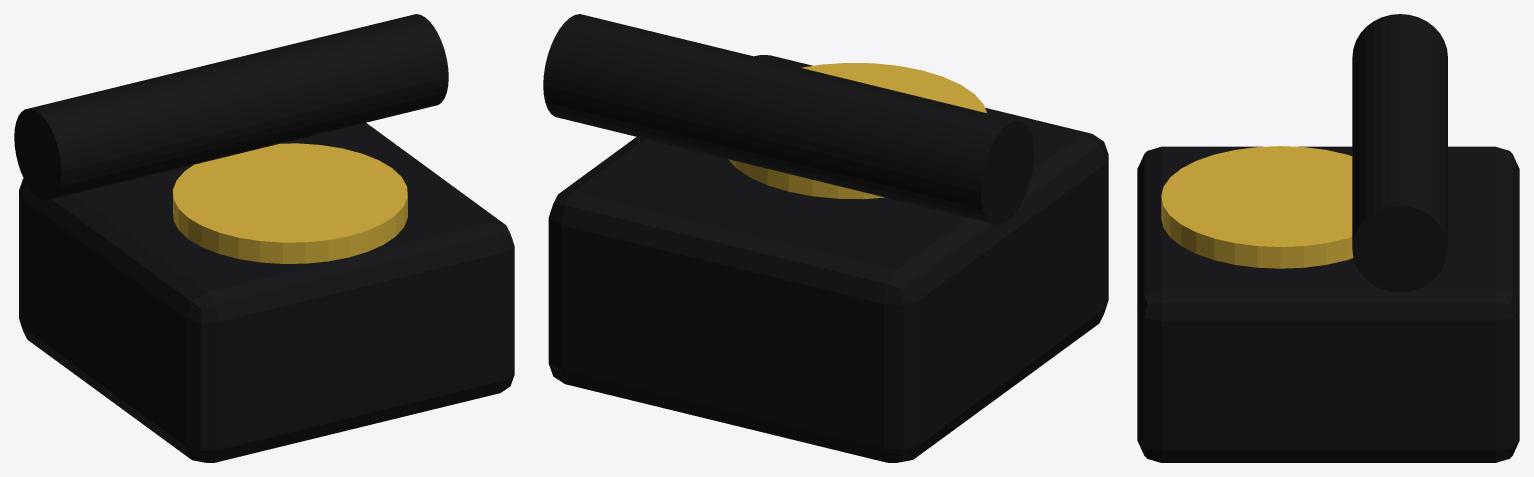
File: rotary_phone_84.glb
The picture shows the model from 3 angles, left to right: view 1: azimuth 30°, elevation 25°; view 2: azimuth 150°, elevation 25°; view 3: azimuth 270°, elevation 25°; orthographic projection. The views are drawn at different scales.
Visible parts, largest first — view 1: RotaryPhone_Base, RotaryPhone_Handset, RotaryPhone_Dial; view 2: RotaryPhone_Base, RotaryPhone_Handset, RotaryPhone_Dial; view 3: RotaryPhone_Base, RotaryPhone_Handset, RotaryPhone_Dial.
Part boxes in pixels (x1,y1,x2,y2): RotaryPhone_Base: (19, 123, 514, 462); RotaryPhone_Handset: (14, 14, 448, 200); RotaryPhone_Dial: (173, 143, 407, 263); RotaryPhone_Base: (548, 55, 1108, 462); RotaryPhone_Handset: (543, 14, 1034, 224); RotaryPhone_Dial: (728, 63, 986, 199); RotaryPhone_Base: (1137, 146, 1519, 462); RotaryPhone_Handset: (1352, 14, 1447, 292); RotaryPhone_Dial: (1161, 146, 1353, 268).
Size of what is drawn, in the model's own units: 0.38 by 0.26 by 0.32.
